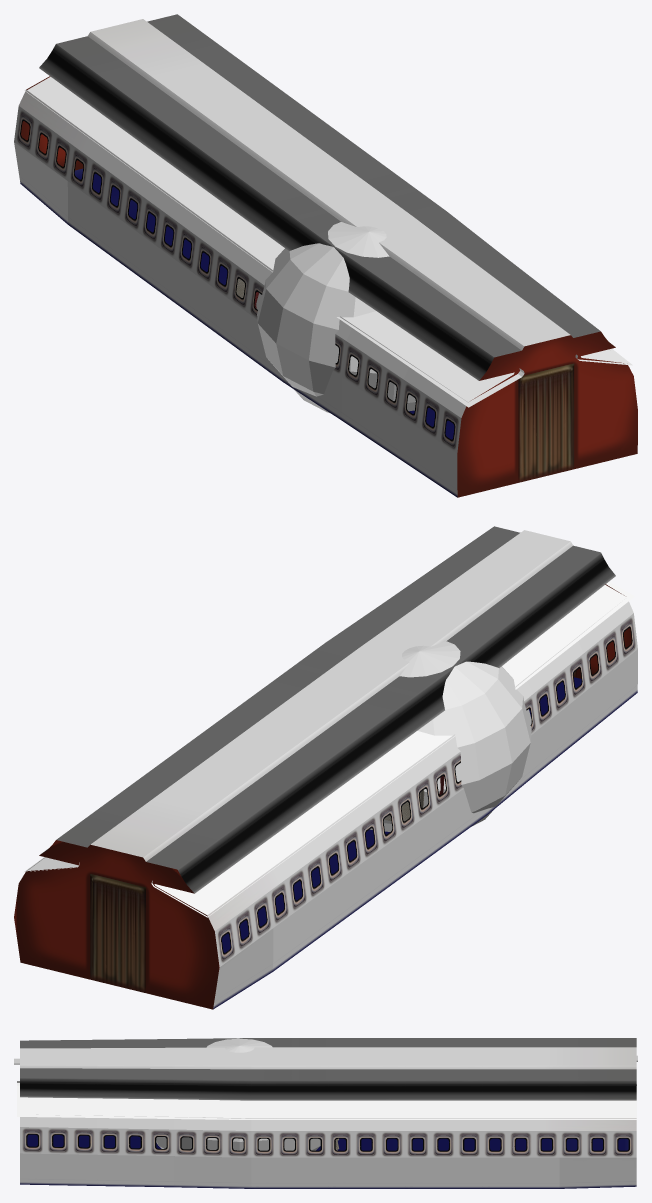
3 renders of one model, top to bottom at view 1: azimuth 30°, elevation 25°; view 2: azimuth 150°, elevation 25°; view 3: azimuth 270°, elevation 25°, orthographic. The views are drawn at different scales.
Parts seen in each view (by area): view 1: static-material-1, static-material-2, static-material-0; view 2: static-material-1, static-material-0, static-material-2; view 3: static-material-1, static-material-0, static-material-2.
Part boxes in pixels (left/top/right/bottom): static-material-1: left=14, top=14, right=637, bottom=497; static-material-2: left=256, top=222, right=415, bottom=413; static-material-0: left=24, top=76, right=632, bottom=407; static-material-1: left=14, top=526, right=637, bottom=1009; static-material-0: left=24, top=581, right=634, bottom=917; static-material-2: left=370, top=641, right=531, bottom=831; static-material-1: left=20, top=1038, right=636, bottom=1188; static-material-0: left=14, top=1055, right=637, bottom=1119; static-material-2: left=156, top=1038, right=320, bottom=1150.
Size of the model in its own units: 3.55 by 2.74 by 12.14.
Materials: 4 (2 with a texture image).
